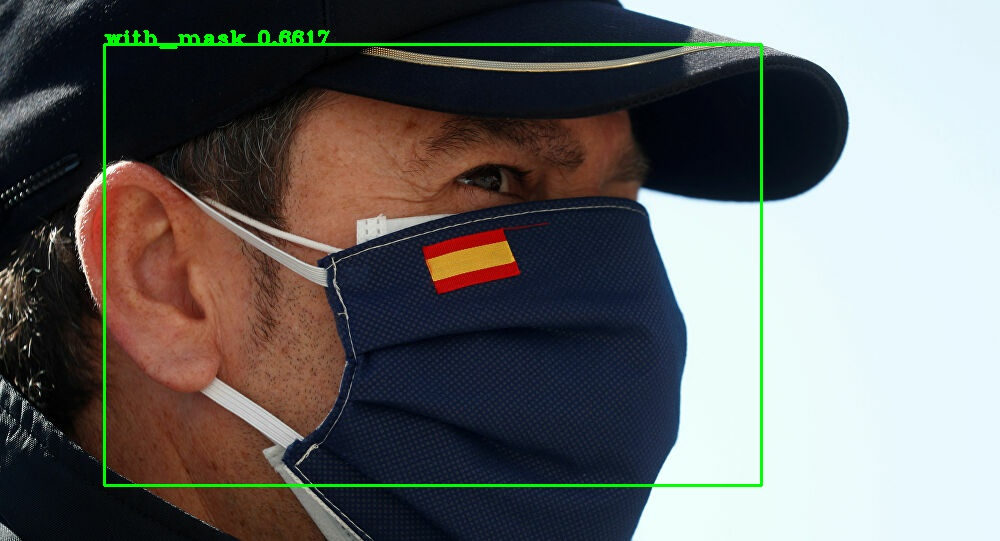with_mask: (46, 6, 704, 541)
